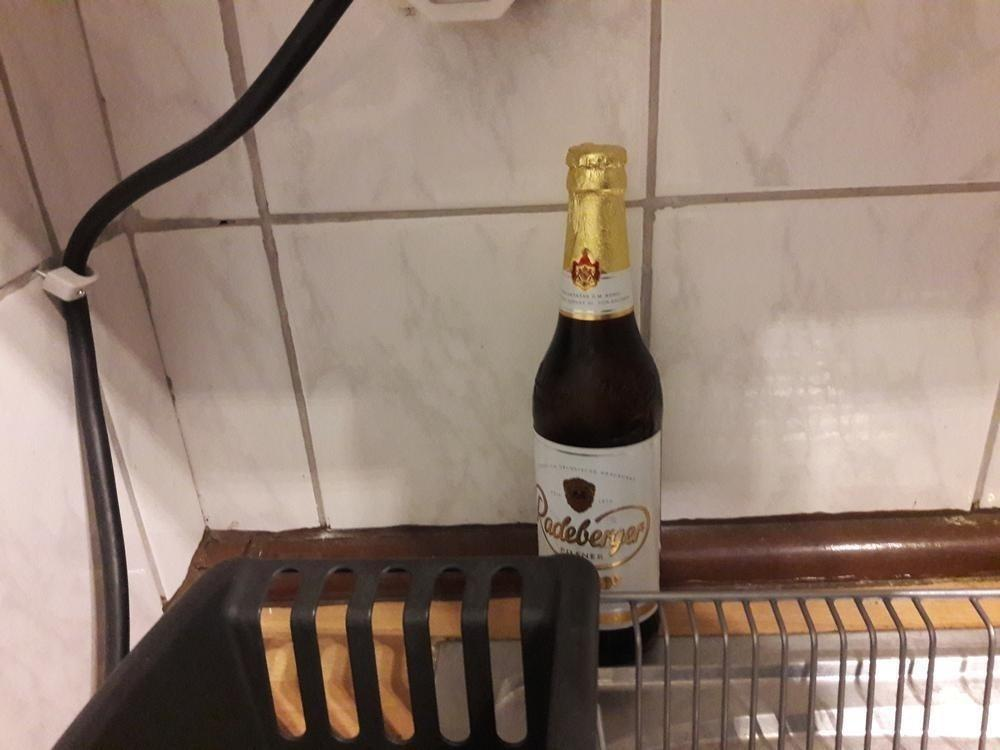bottle-glass: (530, 141, 665, 670)
